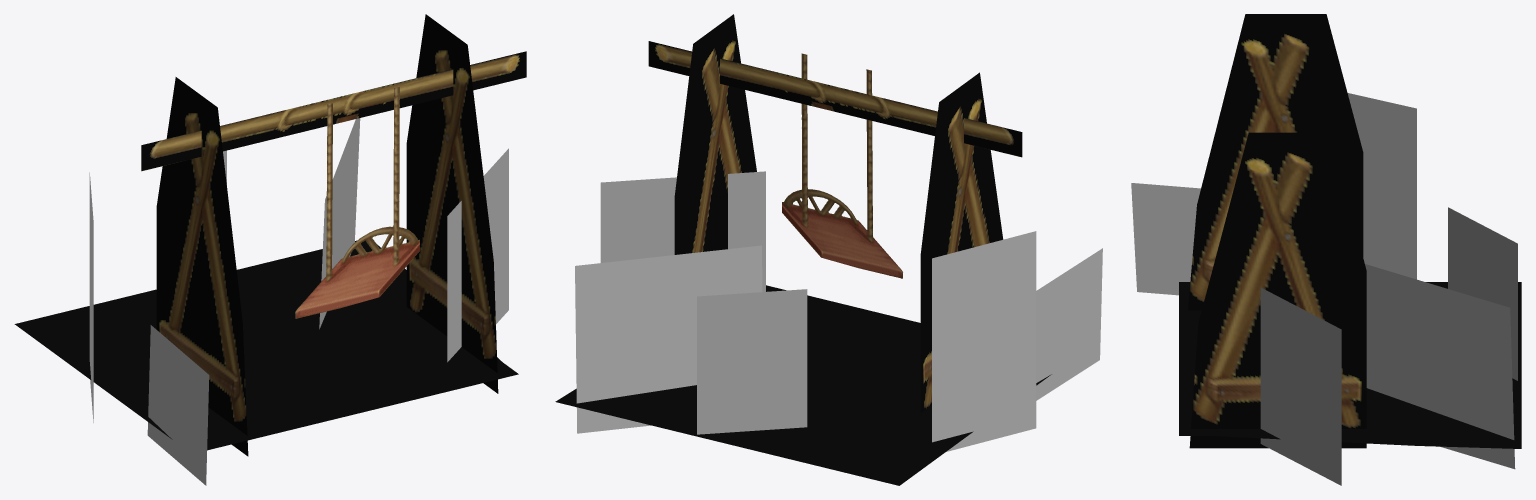
Rendered from K1_streetlight.FBX.
3 views of the same model, side by side, from view 1: azimuth 30°, elevation 25°; view 2: azimuth 150°, elevation 25°; view 3: azimuth 270°, elevation 25° (orthographic). The views are drawn at different scales.
Parts seen in each view (by area): view 1: k1_streetlight_0004, k1_streetlight_006, k1_streetlight_007, k1_streetlight_008, k1_streetlight_009, k1_zacao_2595, k1_zacao_2562, k1_zacao_2628, k1_zacao_2565; view 2: k1_streetlight_0004, k1_zacao_2628, k1_zacao_2565, k1_zacao_2671, k1_streetlight_007, k1_streetlight_006, k1_zacao_2562, k1_streetlight_008, k1_zacao_2595, k1_streetlight_009; view 3: k1_streetlight_007, k1_streetlight_006, k1_zacao_2628, k1_zacao_2562, k1_zacao_2565, k1_streetlight_0004, k1_zacao_2595, k1_zacao_2671.
Boxes of the visible parts, x1,y1,x2,y2 form: k1_streetlight_0004: [14, 240, 518, 450]; k1_streetlight_006: [156, 77, 248, 456]; k1_streetlight_007: [406, 14, 498, 393]; k1_streetlight_008: [141, 51, 526, 171]; k1_streetlight_009: [295, 87, 419, 318]; k1_zacao_2595: [147, 325, 209, 485]; k1_zacao_2562: [447, 148, 508, 362]; k1_zacao_2628: [319, 118, 360, 329]; k1_zacao_2565: [89, 172, 93, 422]; k1_streetlight_0004: [555, 285, 1051, 485]; k1_zacao_2628: [575, 245, 762, 433]; k1_zacao_2565: [932, 231, 1036, 451]; k1_zacao_2671: [697, 289, 807, 434]; k1_streetlight_007: [674, 14, 756, 254]; k1_streetlight_006: [920, 72, 1003, 412]; k1_zacao_2562: [600, 171, 765, 291]; k1_streetlight_008: [648, 41, 1022, 157]; k1_zacao_2595: [1036, 248, 1102, 400]; k1_streetlight_009: [782, 53, 902, 278]; k1_streetlight_007: [1189, 132, 1366, 448]; k1_streetlight_006: [1188, 14, 1363, 310]; k1_zacao_2628: [1365, 264, 1515, 469]; k1_zacao_2562: [1260, 287, 1341, 485]; k1_zacao_2565: [1347, 93, 1416, 279]; k1_streetlight_0004: [1179, 282, 1521, 448]; k1_zacao_2595: [1131, 183, 1200, 295]; k1_zacao_2671: [1448, 207, 1517, 380].
Bounding box in the file's own units: 3.21 × 2.45 × 2.6.
